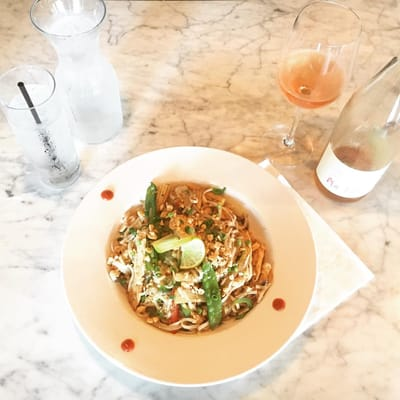pizza: (28, 0, 124, 149), (314, 55, 400, 201)
salad: (18, 82, 42, 125)
